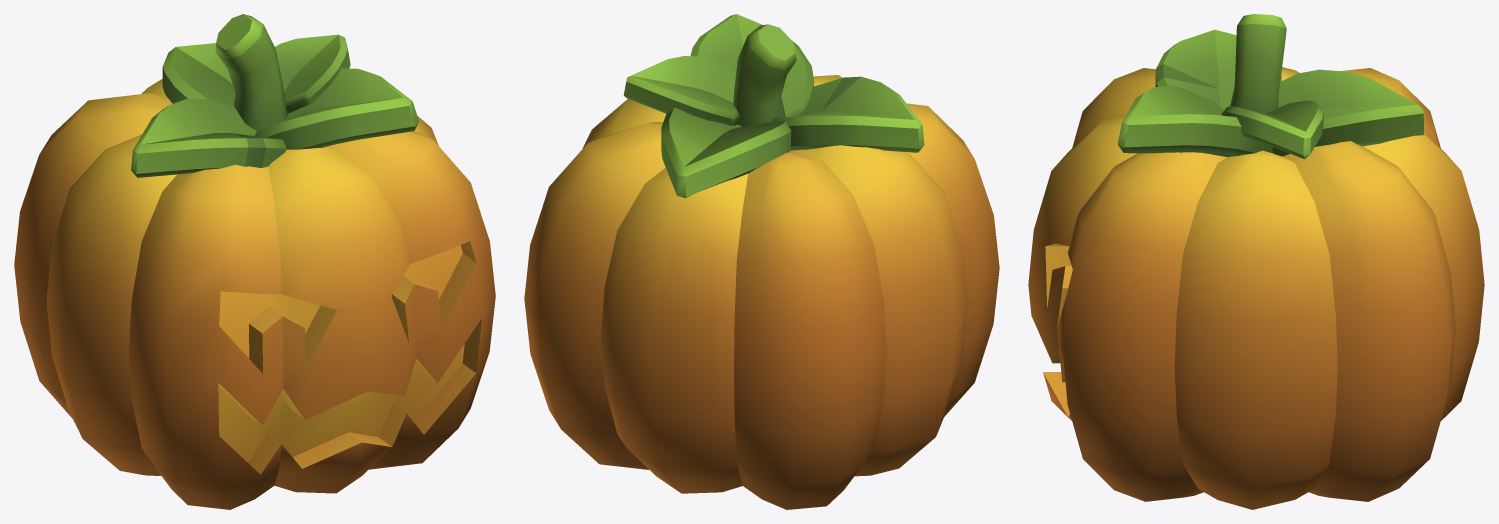
The model's file is pumpkin_1.fbx.
3 views of the same model, side by side, from view 1: azimuth 30°, elevation 25°; view 2: azimuth 150°, elevation 25°; view 3: azimuth 270°, elevation 25° (orthographic). The views are drawn at different scales.
Parts seen in each view (by area): view 1: pumpkin_1; view 2: pumpkin_1; view 3: pumpkin_1.
Part boxes in pixels (<box>): pumpkin_1: <box>14,14,495,509</box>; pumpkin_1: <box>524,14,999,509</box>; pumpkin_1: <box>1028,14,1484,509</box>.
Size of the model in its own units: 133 by 142 by 133.
